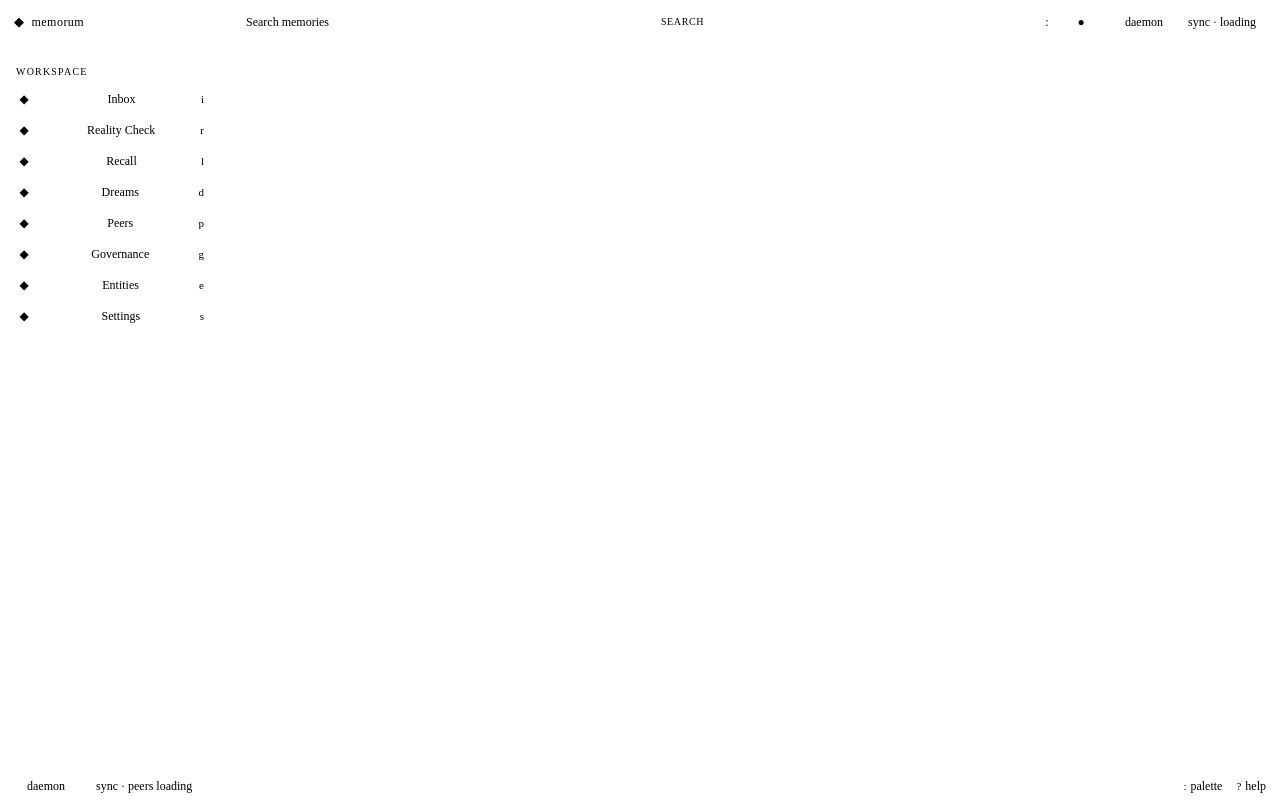
Shell readiness states › surfaces search API failures in the search panel
In the field labelled "Search memories": (448, 22) [244, 8, 653, 36], type "pnpm"
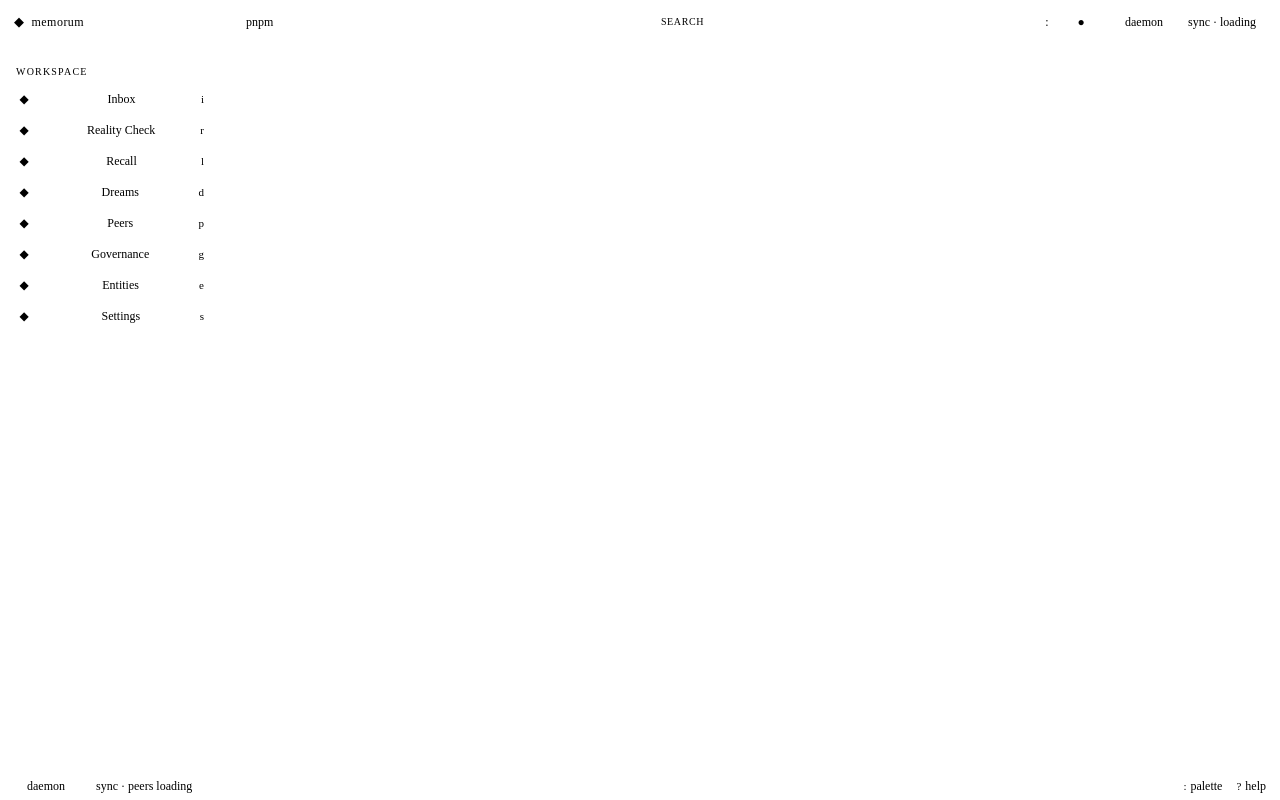
Submit the form named "Search memories", box [234, 8, 714, 36]
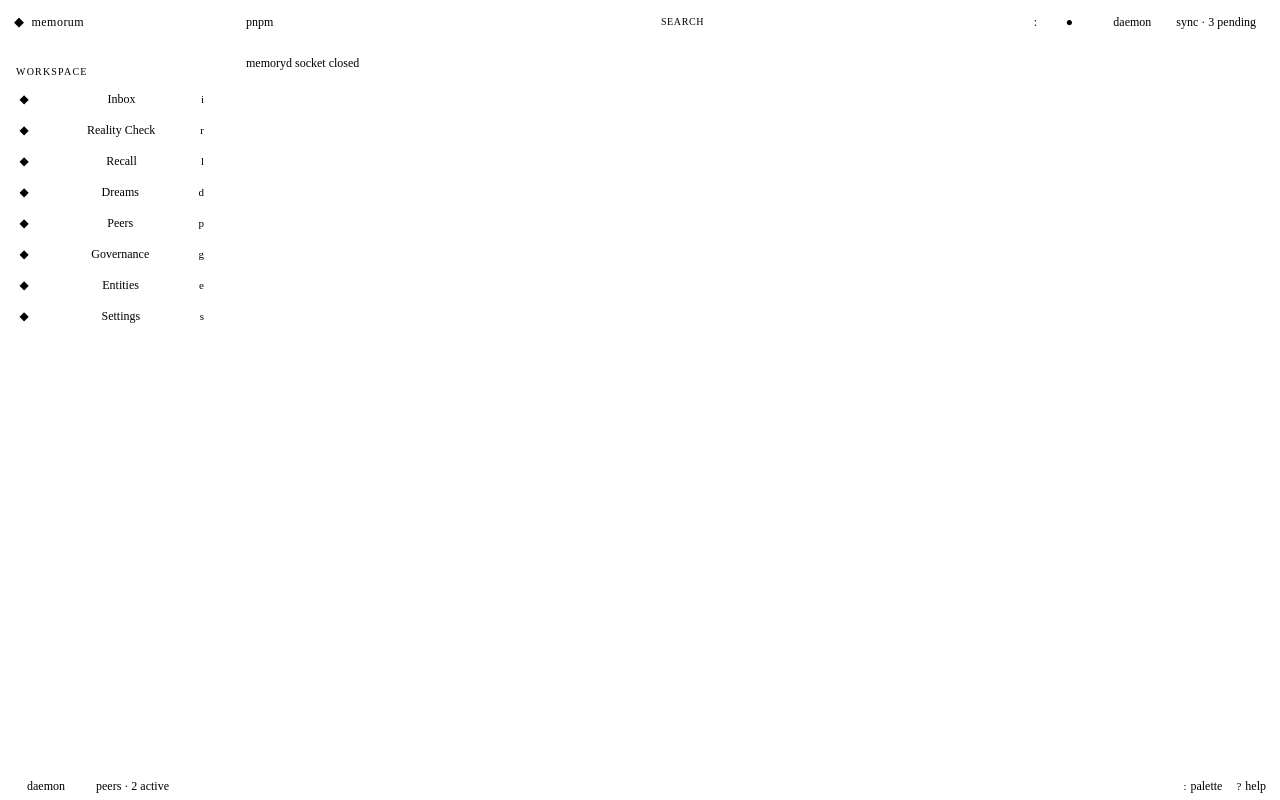
Result: the message reads "memoryd socket closed" at [246, 56, 359, 70]
